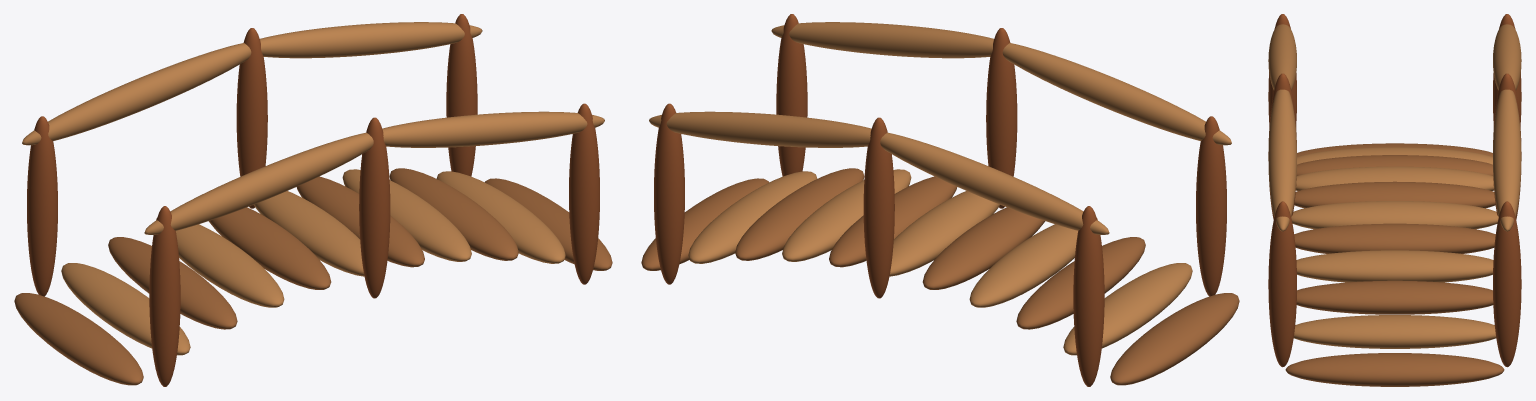
Rendered from bridge.glb.
The picture shows the model from 3 angles, left to right: view 1: azimuth 30°, elevation 25°; view 2: azimuth 150°, elevation 25°; view 3: azimuth 270°, elevation 25°; orthographic projection. The views are drawn at different scales.
Visible parts, largest first — view 1: plank (×11), post (×6), handrail (×4); view 2: plank (×11), post (×6), handrail (×4); view 3: plank (×11), handrail (×4), post (×6).
Part boxes in pixels (x1=…): plank (×11): x1=14, y1=168, x2=612, y2=385; post (×6): x1=27, y1=14, x2=599, y2=386; handrail (×4): x1=22, y1=22, x2=604, y2=234; plank (×11): x1=641, y1=168, x2=1239, y2=385; post (×6): x1=654, y1=14, x2=1226, y2=386; handrail (×4): x1=649, y1=22, x2=1231, y2=234; plank (×11): x1=1285, y1=143, x2=1504, y2=386; handrail (×4): x1=1268, y1=24, x2=1521, y2=231; post (×6): x1=1268, y1=14, x2=1521, y2=367.
Bounding box in the file's own units: 2.43 × 1 × 1.12.
